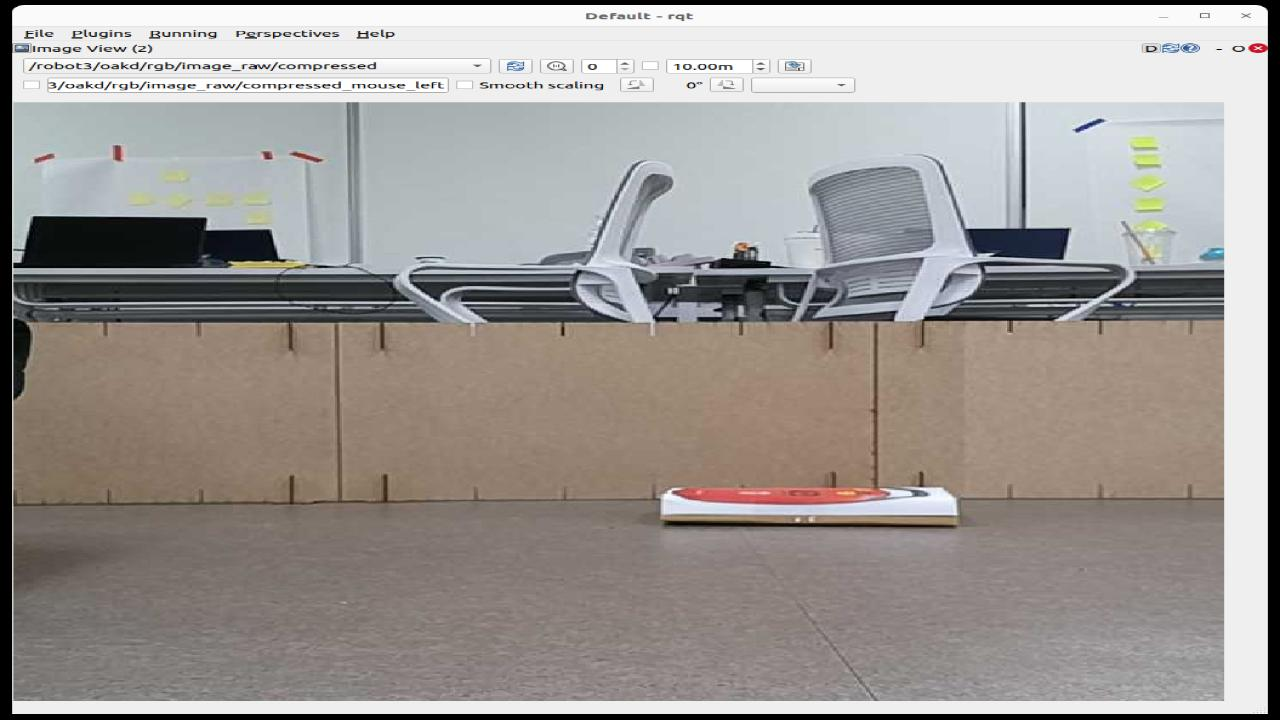AED: (660, 487, 957, 526)
